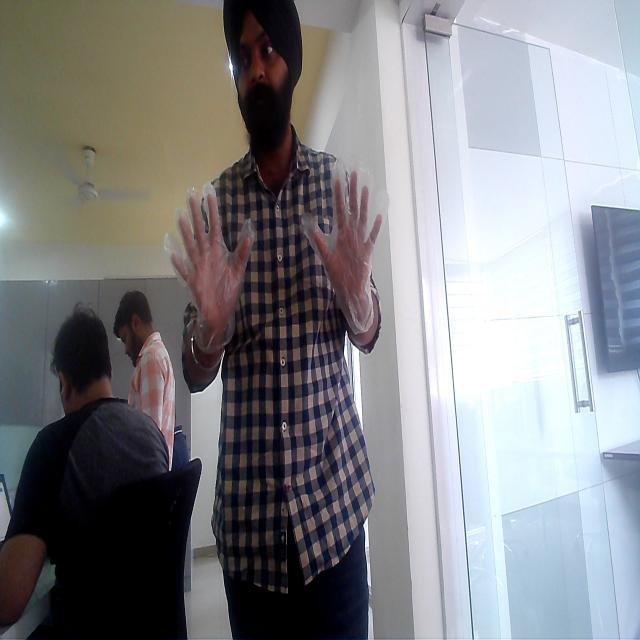with_gloves: (153, 168, 262, 348), (312, 164, 380, 348)
